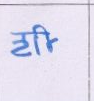i_matra: (34, 24, 56, 52)
